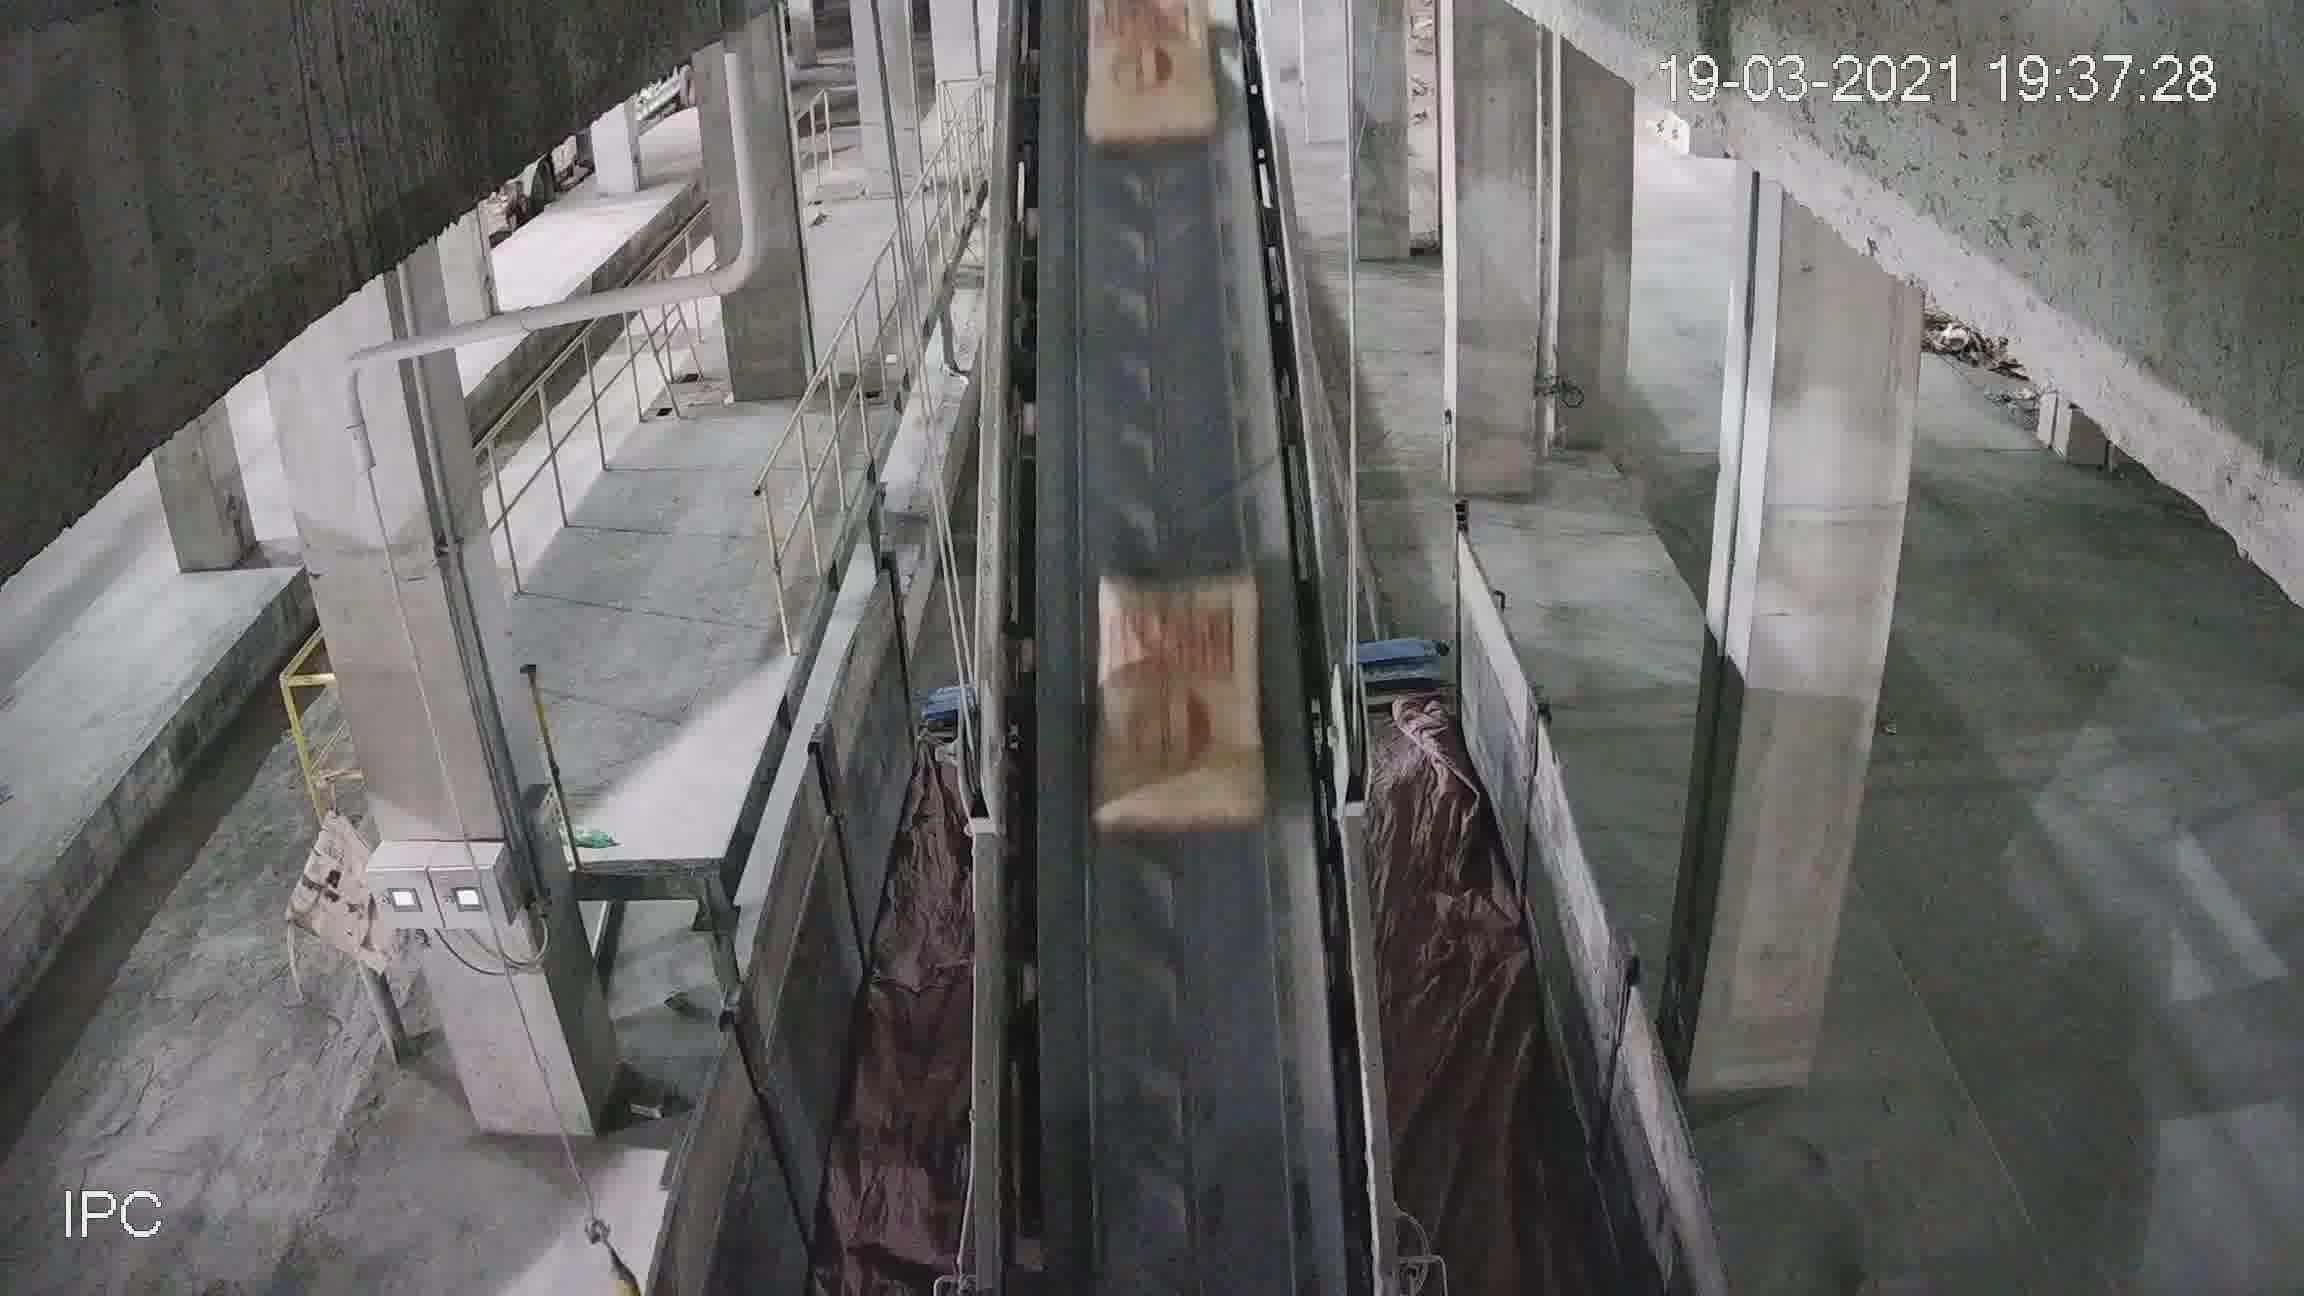bag: (1095, 589, 1266, 836), (1087, 33, 1217, 135)
belt: (968, 63, 1367, 1152)
